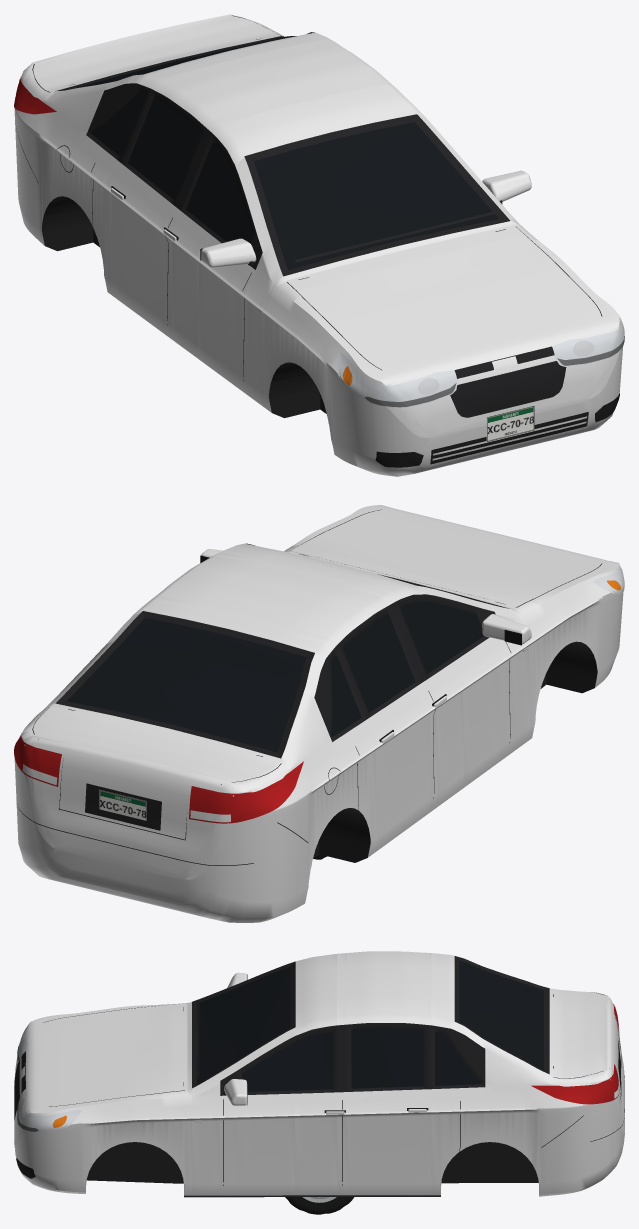
Rendered from chevrolet-aveo.glb.
3 renders of one model, top to bottom at view 1: azimuth 30°, elevation 25°; view 2: azimuth 150°, elevation 25°; view 3: azimuth 270°, elevation 25°, orthographic. The views are drawn at different scales.
Visible parts, largest first — view 1: body; view 2: body; view 3: body, wheel.
Boxes of the visible parts, x1,y1,x2,y2 form: body: [14, 14, 624, 476]; body: [14, 505, 624, 922]; body: [14, 951, 624, 1197]; wheel: [285, 1197, 354, 1214].
Bounding box in the file's own units: 2.06 × 1.79 × 4.3.
1 material, 1 textured.
